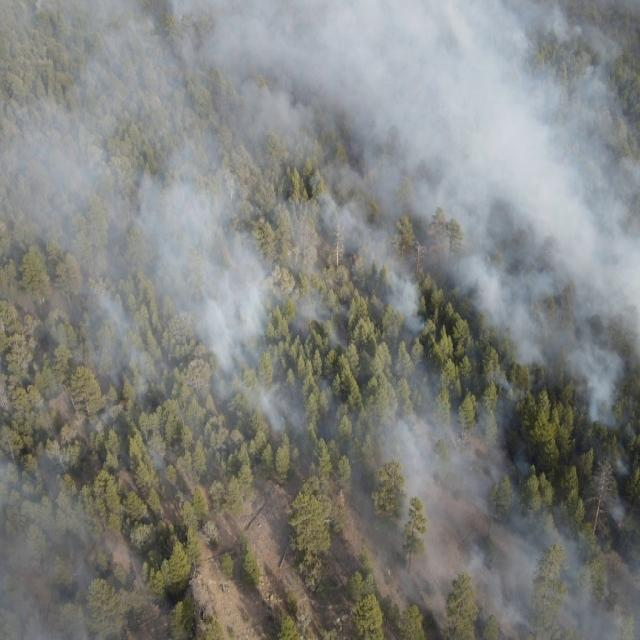fire: (117, 394, 132, 414)
smoke: (0, 0, 640, 379), (210, 376, 640, 502), (0, 377, 181, 640), (358, 497, 640, 640)
